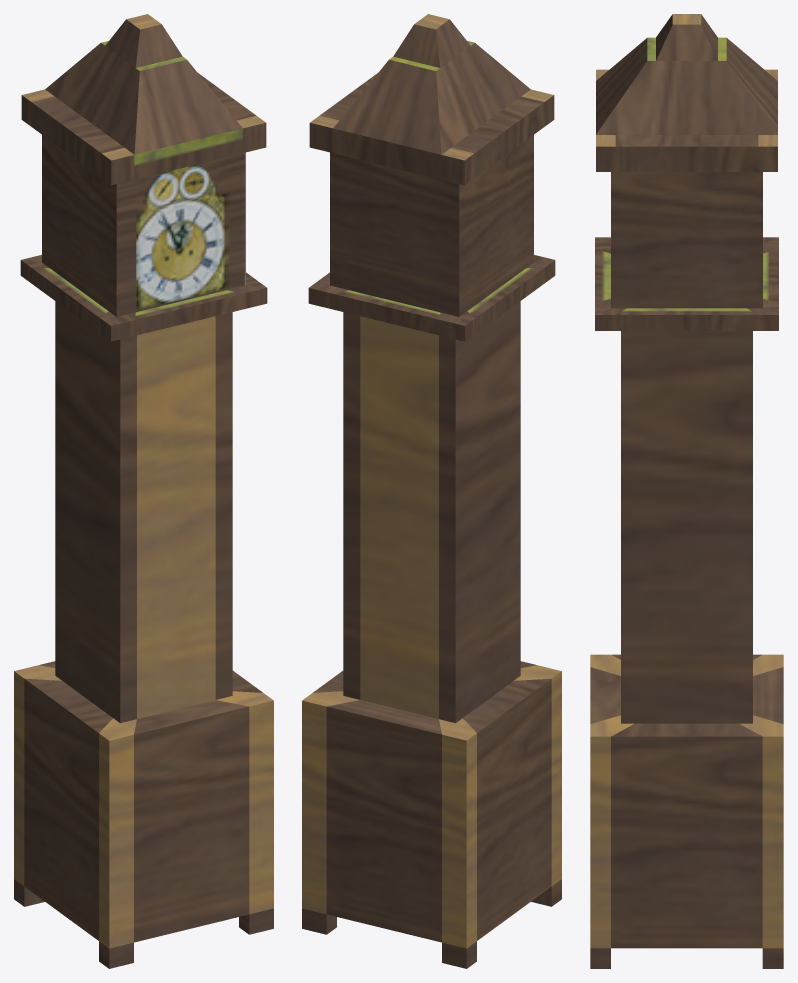
File: Horloge.fbx
3 views of the same model, side by side, from view 1: azimuth 30°, elevation 25°; view 2: azimuth 150°, elevation 25°; view 3: azimuth 270°, elevation 25° (orthographic).
Parts seen in each view (by area): view 1: Cube; view 2: Cube; view 3: Cube.
Part boxes in pixels (<box>): Cube: <box>14,14,273,968</box>; Cube: <box>302,14,561,968</box>; Cube: <box>590,14,783,968</box>.
Bounding box in the file's own units: 200 × 1035 × 200.
Materials: 1 (1 with a texture image).
